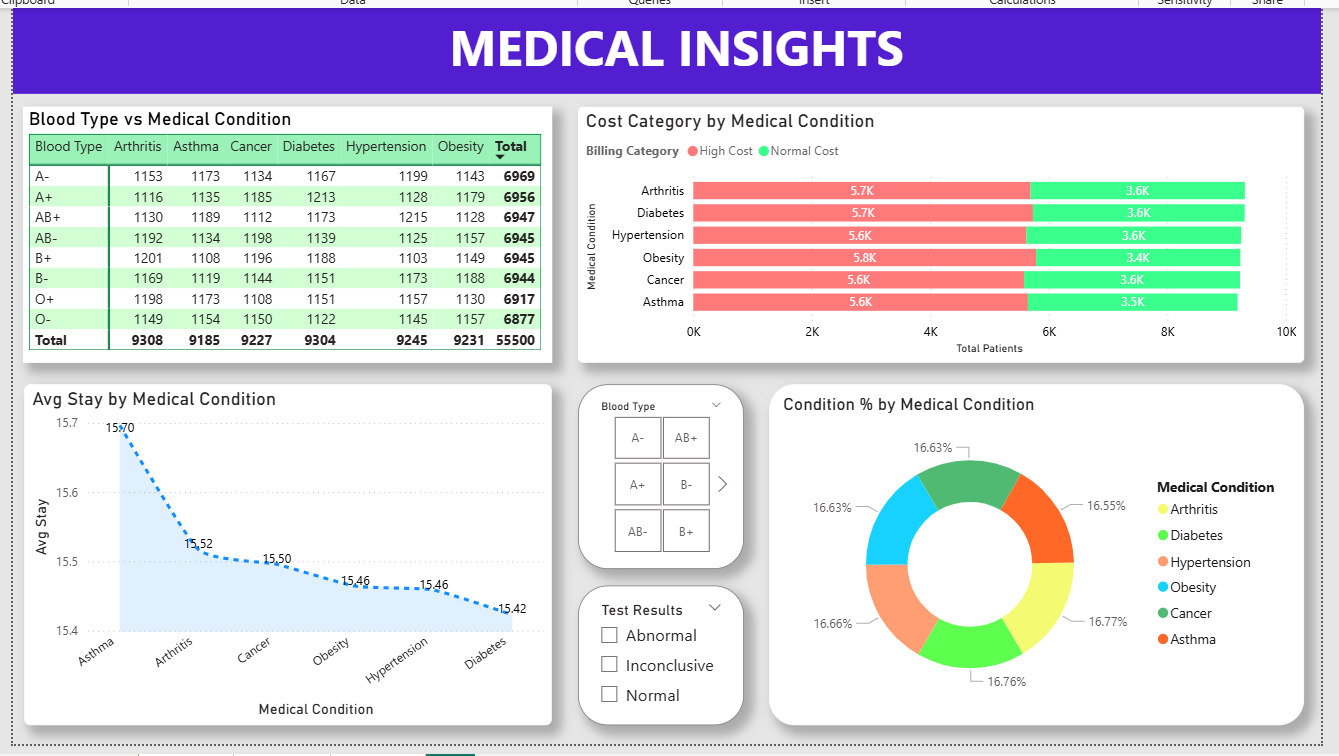

The dashboard page shown, as its layout file describes it:
{"tool":"powerbi","page":{"name":"Page 2","canvas":[1280,720],"ordinal":1},"visuals":[{"type":"textbox","box":[0,0,1280.3,84.4],"z":0},{"type":"pivotTable","title":"Blood Type vs Medical Condition","fields":{"Rows":["healthcare_dataset.Blood Type"],"Columns":["healthcare_dataset.Medical Condition"],"Values":["healthcare_dataset.Total Patients"]},"box":[9.8,96.6,517.3,250.7],"z":1000},{"type":"barChart","title":"Cost Category by Medical Condition","fields":{"Category":["healthcare_dataset.Medical Condition"],"Y":["healthcare_dataset.Total Patients"],"Series":["healthcare_dataset.Billing Category"]},"box":[552.7,96.6,710.5,250.7],"z":2000},{"type":"donutChart","fields":{"Category":["healthcare_dataset.Medical Condition"],"Y":["healthcare_dataset.Condition %"]},"box":[739.8,368.1,523.4,333.8],"z":3000},{"type":"lineChart","fields":{"Category":["healthcare_dataset.Medical Condition"],"Y":["healthcare_dataset.Avg Stay"]},"box":[11,368.1,516,333.8],"z":4000},{"type":"slicer","fields":{"Values":["healthcare_dataset.Blood Type"]},"box":[552.7,368.1,162.6,181],"z":5000},{"type":"slicer","fields":{"Values":["healthcare_dataset.Test Results"]},"box":[552.7,564.9,162.6,137],"z":6000}]}

Visuals, with their boxes in screenshot pixels (x1, y1, x2, y2):
textbox: rect(0, 3, 1321, 91)
"Blood Type vs Medical Condition" pivotTable: rect(10, 103, 544, 362)
"Cost Category by Medical Condition" barChart: rect(570, 103, 1303, 362)
donutChart - healthcare_dataset.Medical Condition x healthcare_dataset.Condition %: rect(763, 383, 1303, 728)
lineChart - healthcare_dataset.Medical Condition x healthcare_dataset.Avg Stay: rect(11, 383, 544, 728)
slicer - healthcare_dataset.Blood Type: rect(570, 383, 738, 570)
slicer - healthcare_dataset.Test Results: rect(570, 586, 738, 728)
